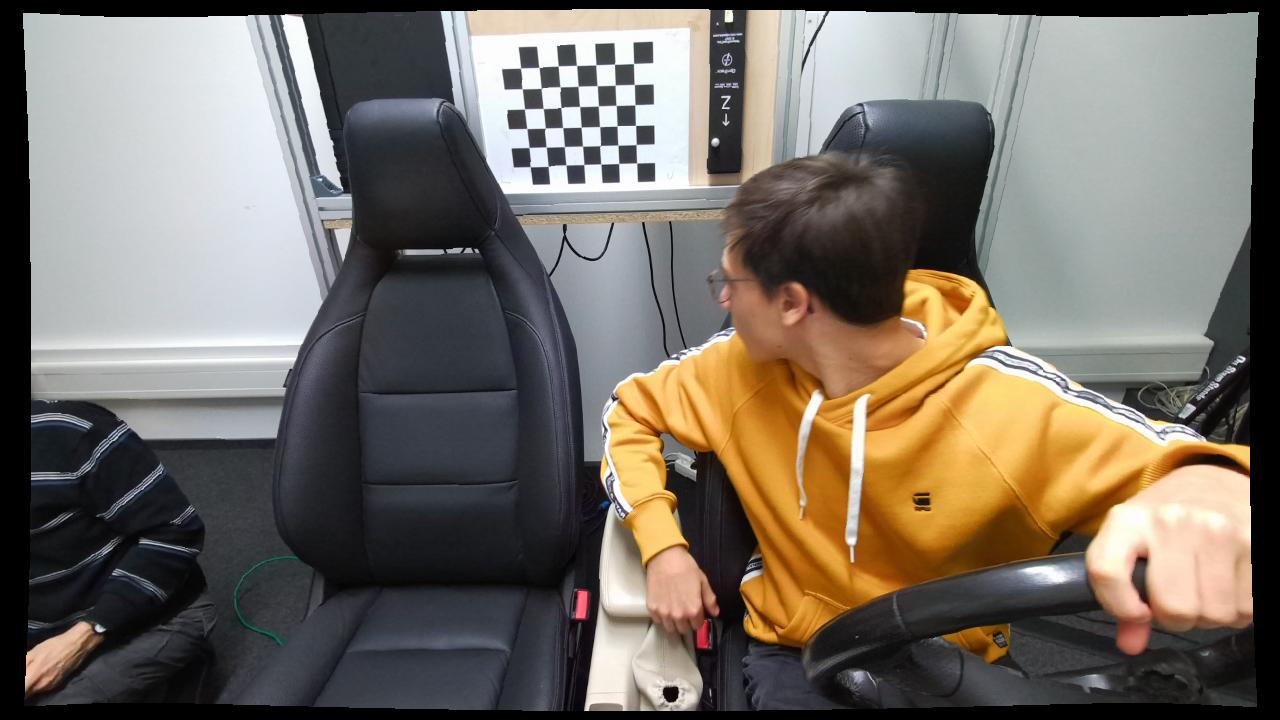Distracted: (599, 141, 1102, 712)
